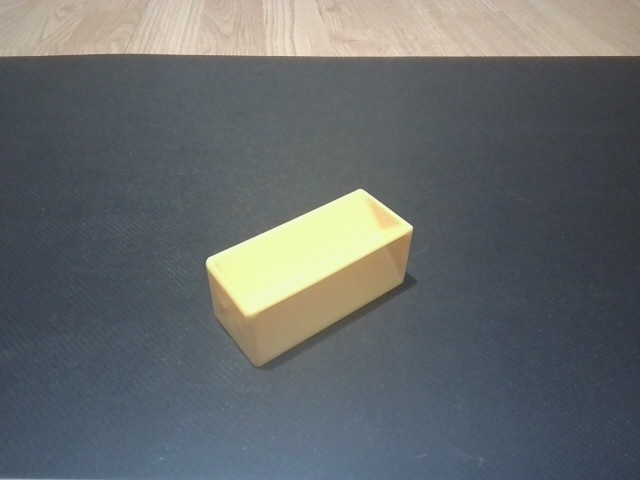YellowSample: (204, 186, 416, 369)
